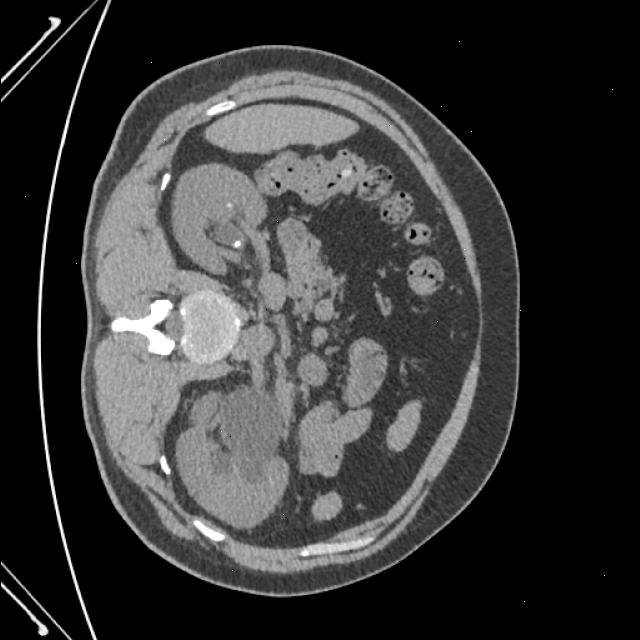kidneystone: (233, 240, 240, 248)
